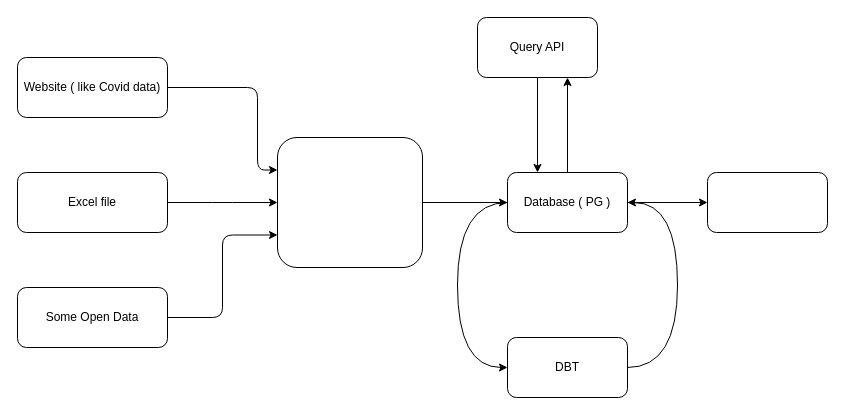
This 845x415 diagram has some shape labels left out. The centre of each missing label's shape, as x and y in pixels:
"Confluent Kafka" goes at point 349,202.
"Power Bi" goes at point 767,202.
